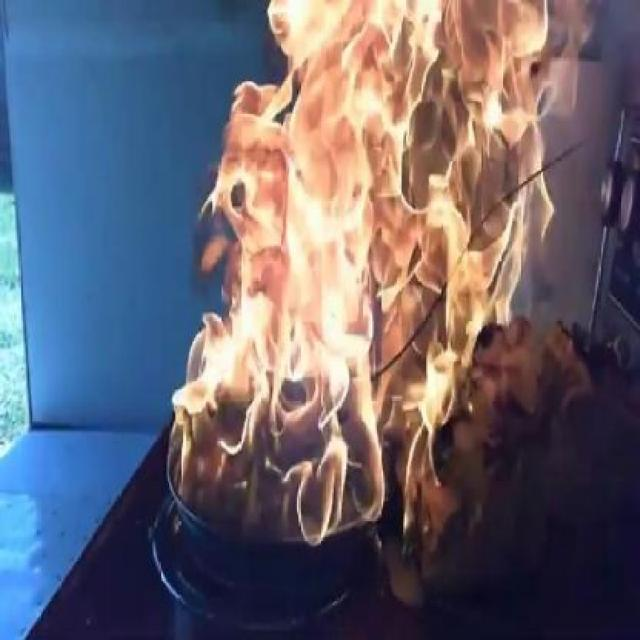fire: (268, 169, 557, 386), (266, 7, 592, 153), (272, 403, 457, 539), (177, 284, 263, 494), (220, 88, 266, 276)
